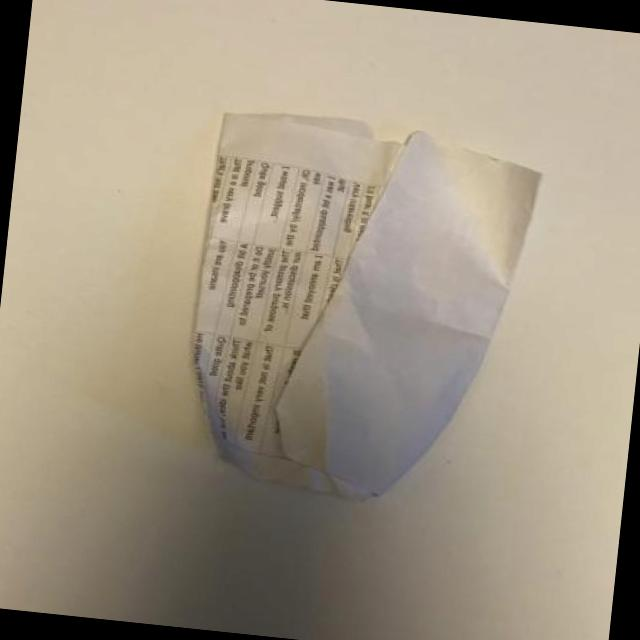paper: (194, 115, 538, 497)
